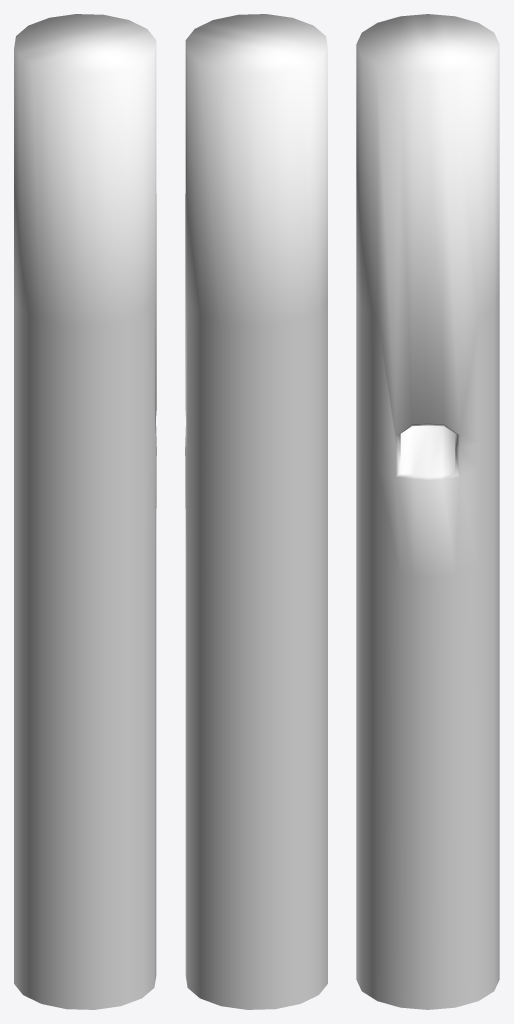
File: Tronco_Toca.fbx
3 renders of one model, left to right at view 1: azimuth 30°, elevation 25°; view 2: azimuth 150°, elevation 25°; view 3: azimuth 270°, elevation 25°, orthographic.
Parts seen in each view (by area): view 1: Tronco_Toca; view 2: Tronco_Toca; view 3: Tronco_Toca.
Boxes of the visible parts, x1,y1,x2,y2 form: Tronco_Toca: [14, 14, 156, 1009]; Tronco_Toca: [185, 14, 327, 1009]; Tronco_Toca: [356, 14, 499, 1009].
Bounding box in the file's own units: 1060 × 7634 × 1060.
